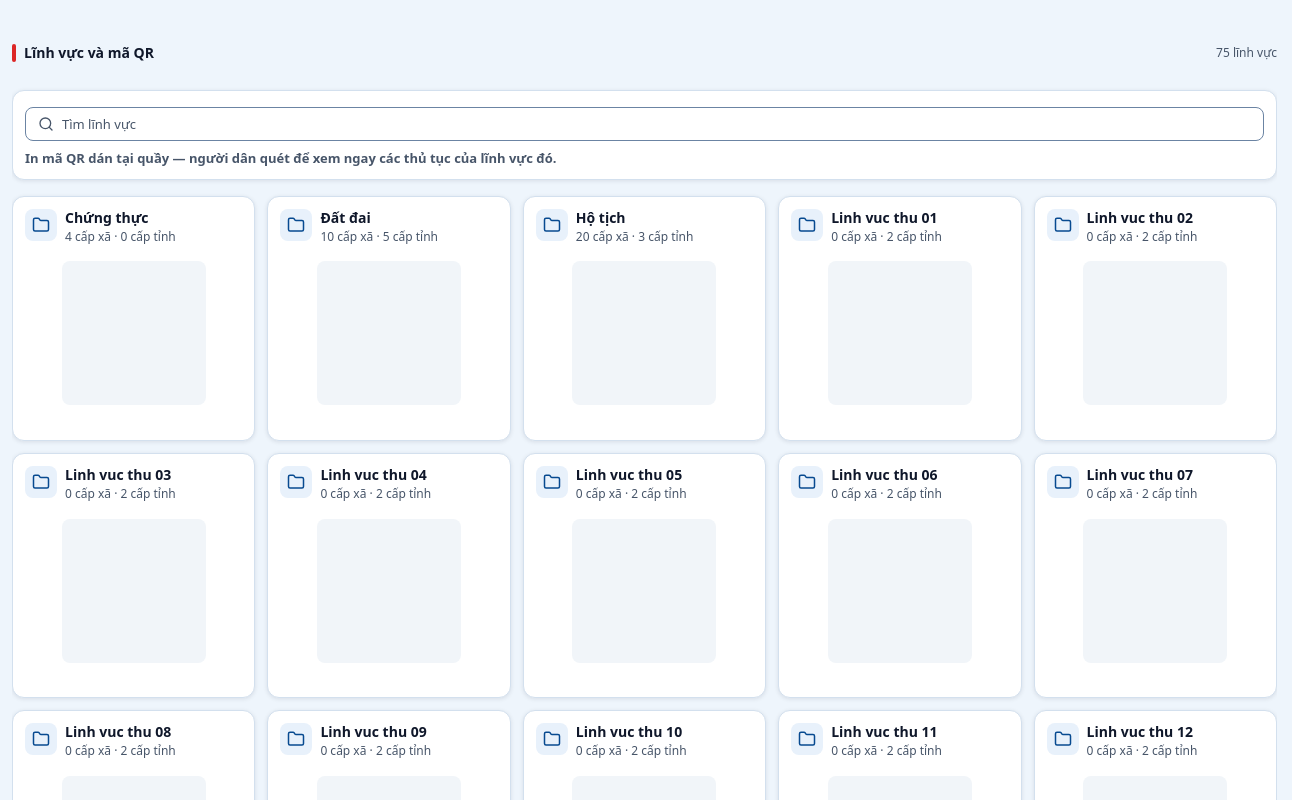
Test: LinhVuc — liên kết của ô (AC-3) › bấm ô Chứng thực → danh mục cấp xã đã lọc Chứng thực
This screenshot has width=1292, height=800.
Click the link "Chứng thực" at (107, 218), box [65,208,149,227]
(page scrolled)
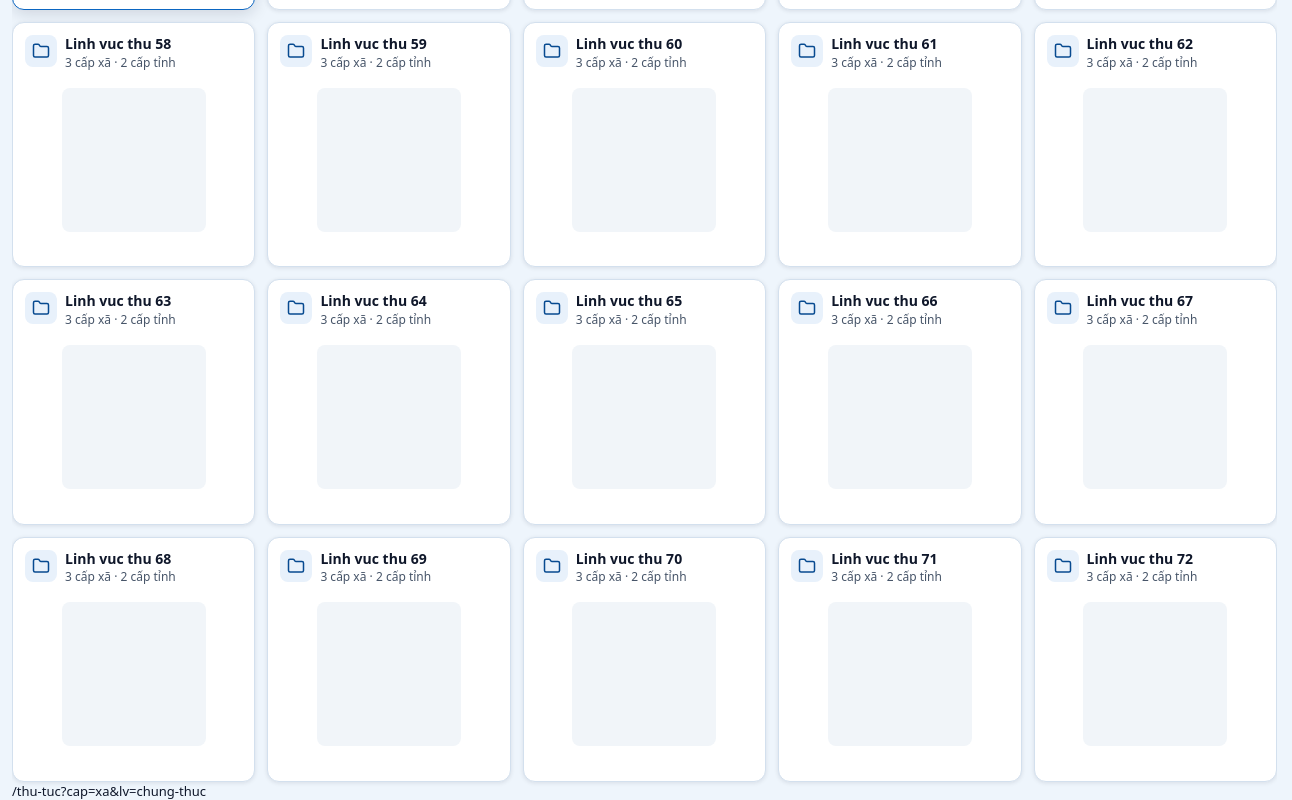
Expected: the text with test id "dia-chi" reads "/thu-tuc?cap=xa&lv=chung-thuc", [12,782,206,799]
